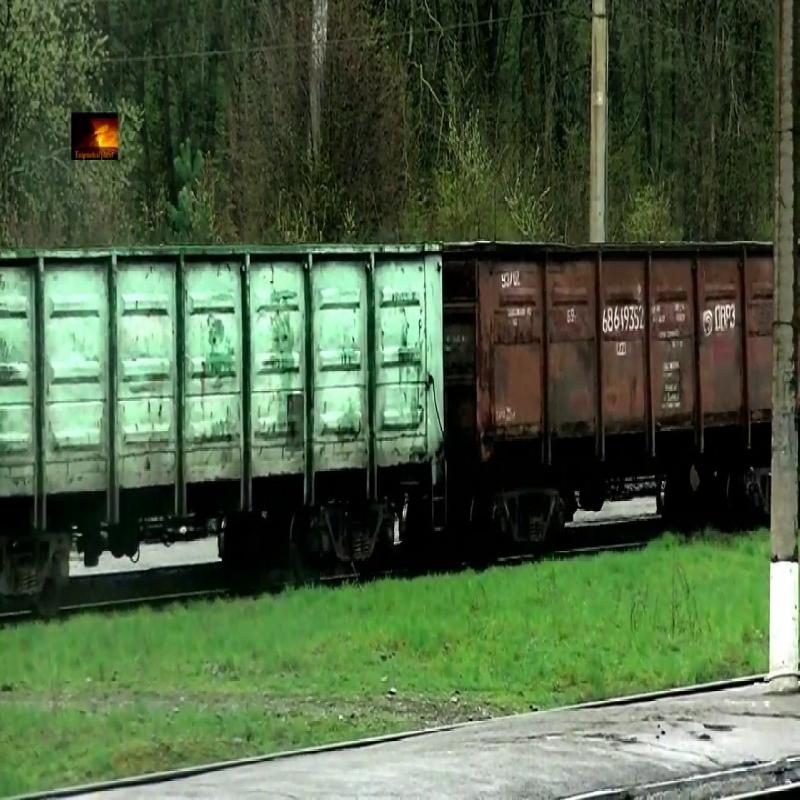train: (1, 241, 442, 530), (444, 245, 776, 476)
